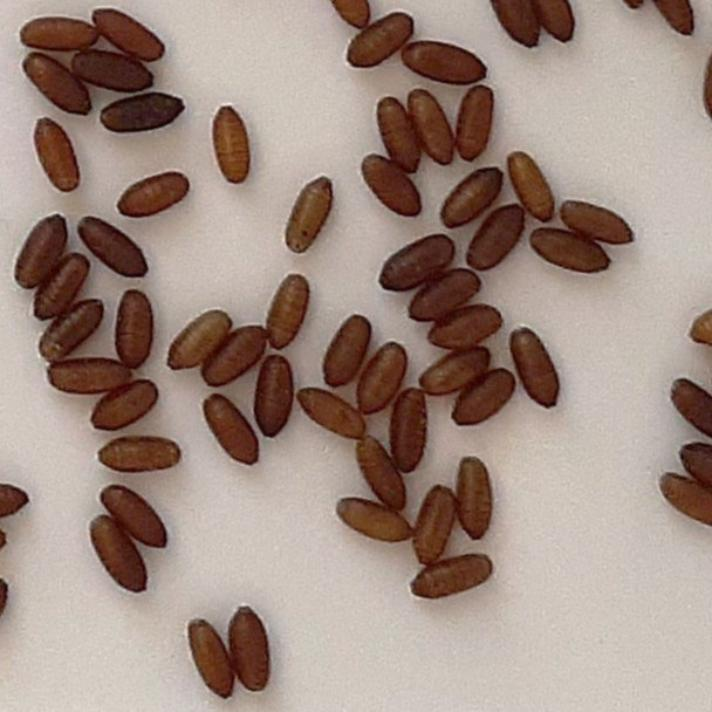pupae: (18, 46, 96, 124), (340, 7, 424, 77), (32, 294, 110, 367), (278, 173, 340, 263), (377, 230, 461, 296), (523, 220, 615, 280), (96, 483, 174, 552), (87, 511, 149, 597), (89, 1, 172, 65), (408, 547, 502, 603), (350, 428, 410, 514), (5, 215, 71, 293), (165, 308, 237, 378), (352, 338, 414, 418), (556, 190, 636, 252), (28, 249, 92, 325), (508, 325, 562, 415), (251, 350, 300, 449), (402, 267, 488, 323), (317, 312, 375, 394), (199, 392, 261, 468), (184, 612, 236, 702), (451, 366, 519, 434), (358, 154, 426, 222), (262, 270, 317, 354), (91, 90, 191, 136), (370, 97, 424, 181), (334, 493, 412, 551), (460, 204, 530, 268), (385, 385, 433, 477), (296, 382, 367, 444), (435, 166, 505, 228), (226, 603, 272, 697), (74, 216, 146, 276), (423, 344, 495, 404), (502, 150, 560, 224), (202, 322, 268, 386), (408, 484, 456, 570), (402, 38, 488, 86), (32, 114, 82, 196), (427, 302, 505, 354), (407, 90, 459, 168), (68, 48, 152, 95), (117, 168, 196, 216), (20, 10, 104, 54), (46, 355, 134, 396), (86, 381, 160, 429), (210, 100, 252, 184), (656, 470, 712, 532), (485, 1, 544, 58), (116, 287, 158, 367), (454, 84, 500, 156), (459, 456, 497, 542), (94, 440, 182, 474), (670, 373, 712, 443), (536, 1, 578, 46), (678, 436, 712, 488), (324, 3, 376, 33)
